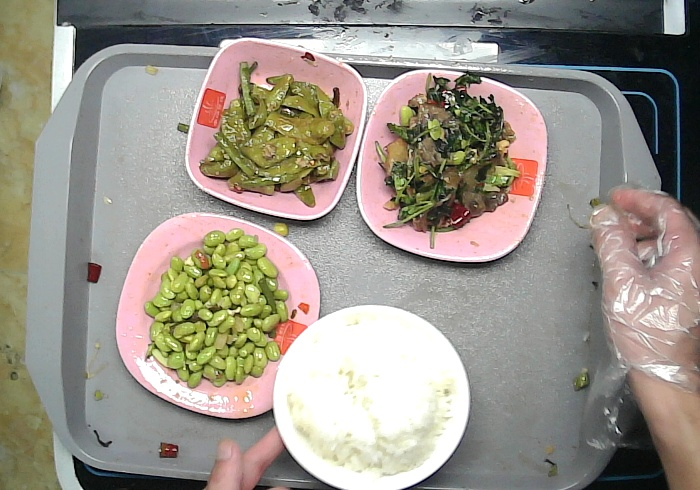SHKJ-Fan_Wan: (273, 301, 471, 490)
SHKJ-Fen_Se_Cai_Die: (356, 67, 548, 265)
SHKJ-Fen_Se_Si_Fang_Cai_Die: (116, 211, 323, 419)
SHKJ-Fen_Se_Xiao_Fang_Die: (184, 37, 370, 221)
